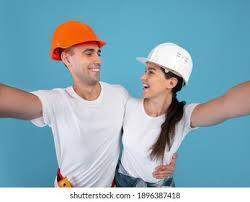helmet: (134, 43, 193, 86), (50, 21, 108, 59)
